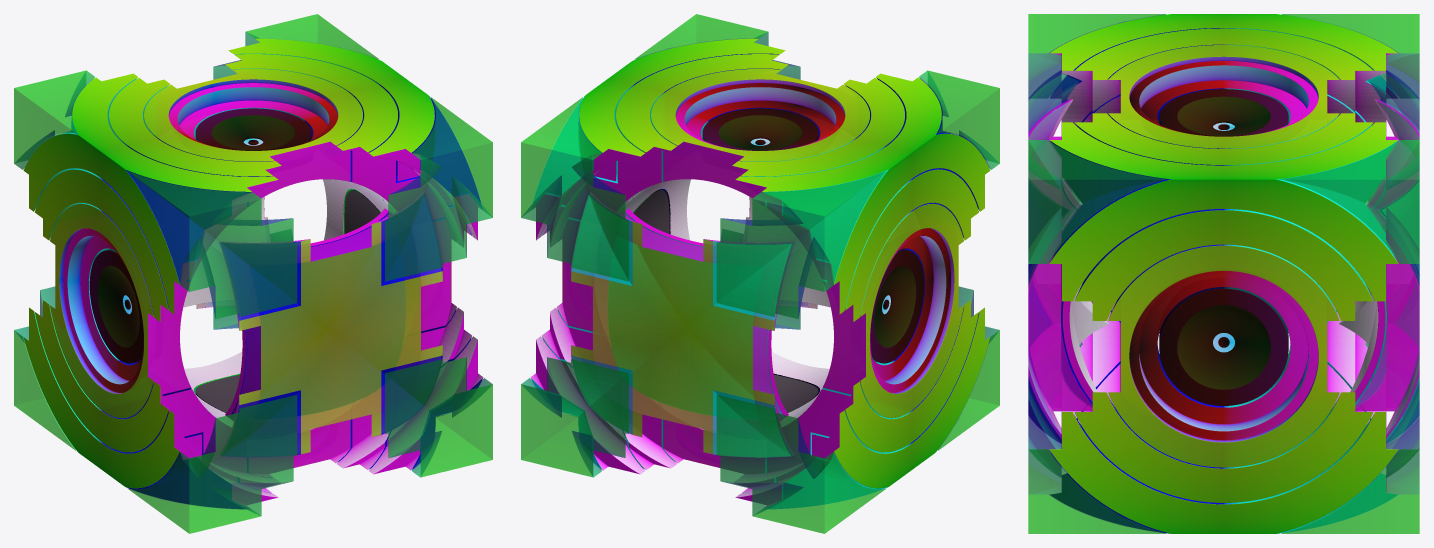
Rendered from cube_cuts.glb.
The picture shows the model from 3 angles, left to right: view 1: azimuth 30°, elevation 25°; view 2: azimuth 150°, elevation 25°; view 3: azimuth 270°, elevation 25°; orthographic projection. The views are drawn at different scales.
Visible parts, largest first — view 1: Box002_03 - Default_0 (×7); view 2: Box002_03 - Default_0 (×7); view 3: Box002_03 - Default_0 (×7).
Boxes of the visible parts, x1,y1,x2,y2 form: Box002_03 - Default_0 (×7): (14,14,492,533); Box002_03 - Default_0 (×7): (521,14,999,533); Box002_03 - Default_0 (×7): (1028,14,1419,533).
Size of the model in its own units: 0.582 by 0.582 by 0.582.
